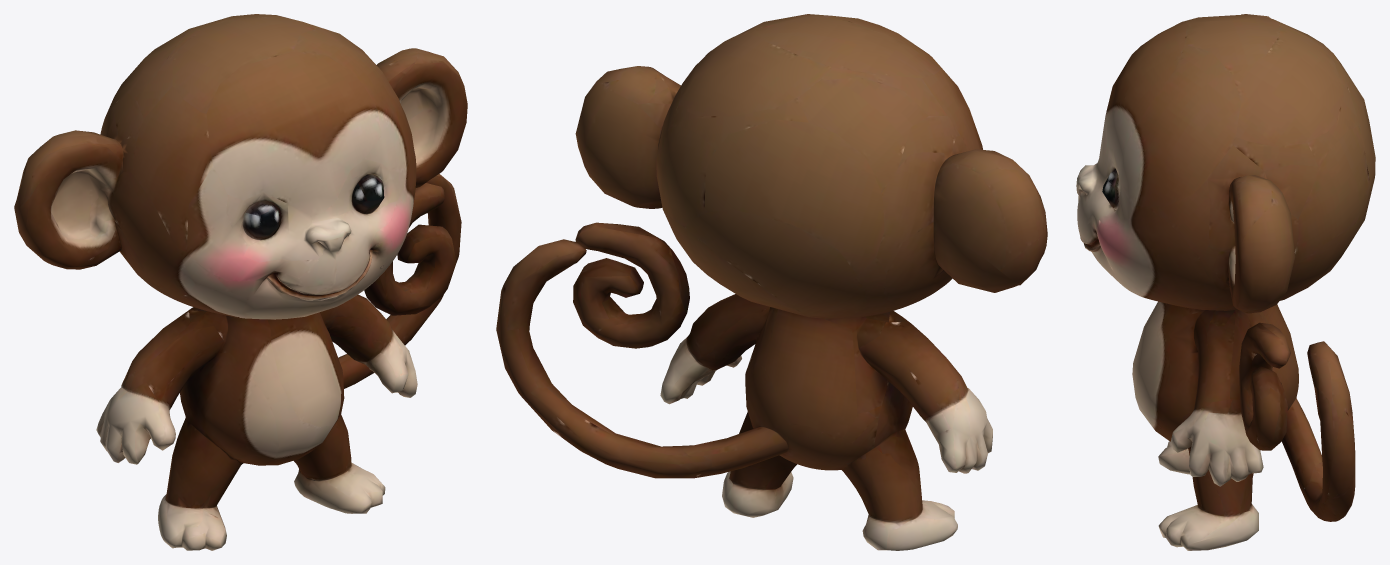
The model's file is animal_monkey.glb.
3 views of the same model, side by side, from view 1: azimuth 30°, elevation 25°; view 2: azimuth 150°, elevation 25°; view 3: azimuth 270°, elevation 25° (orthographic). The views are drawn at different scales.
Visible parts, largest first — view 1: node_0; view 2: node_0; view 3: node_0.
Boxes of the visible parts, <box> form: node_0: <box>14,14,467,550</box>; node_0: <box>496,14,1047,550</box>; node_0: <box>1076,14,1375,550</box>.
Bounding box in the file's own units: 1.06 × 1 × 0.5778.
Materials: 1 (1 with a texture image).
